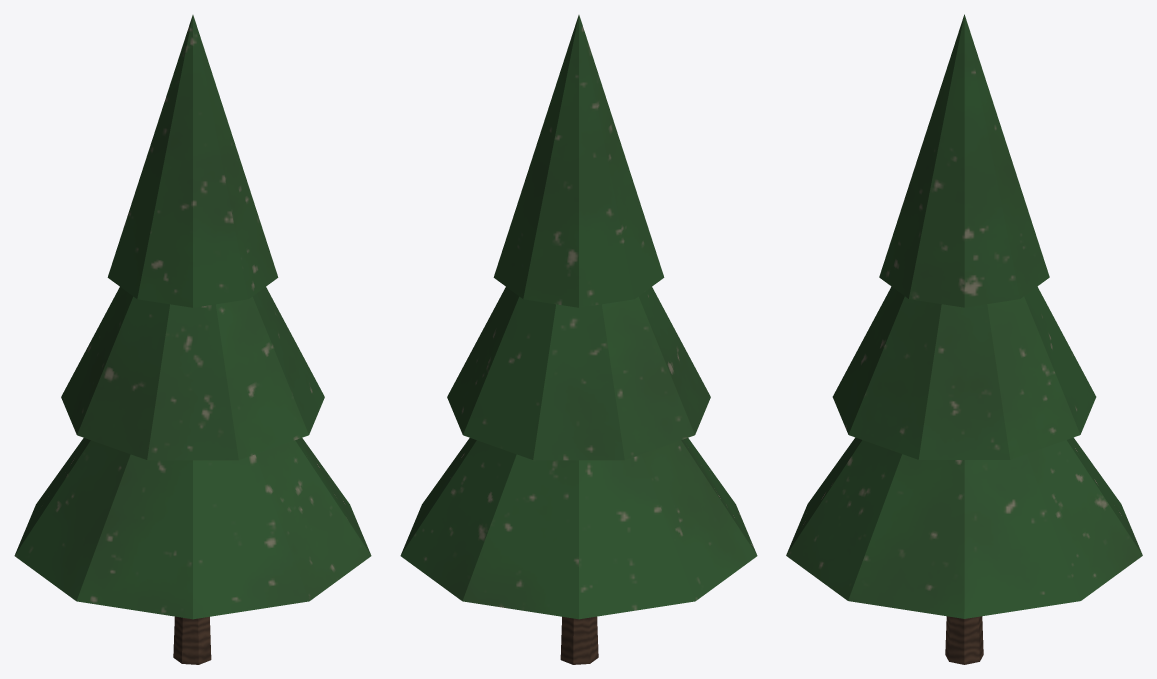
The model's file is Tree_Pine.fbx.
3 renders of one model, left to right at view 1: azimuth 30°, elevation 25°; view 2: azimuth 150°, elevation 25°; view 3: azimuth 270°, elevation 25°, orthographic.
Visible parts, largest first — view 1: Crown, Trunk; view 2: Crown, Trunk; view 3: Crown, Trunk.
Boxes of the visible parts, x1,y1,x2,y2 form: Crown: [14, 15, 371, 619]; Trunk: [173, 616, 211, 664]; Crown: [400, 15, 757, 619]; Trunk: [560, 616, 598, 664]; Crown: [786, 14, 1142, 618]; Trunk: [945, 616, 983, 664].
Size of the model in its own units: 4.46 by 9 by 4.53.
